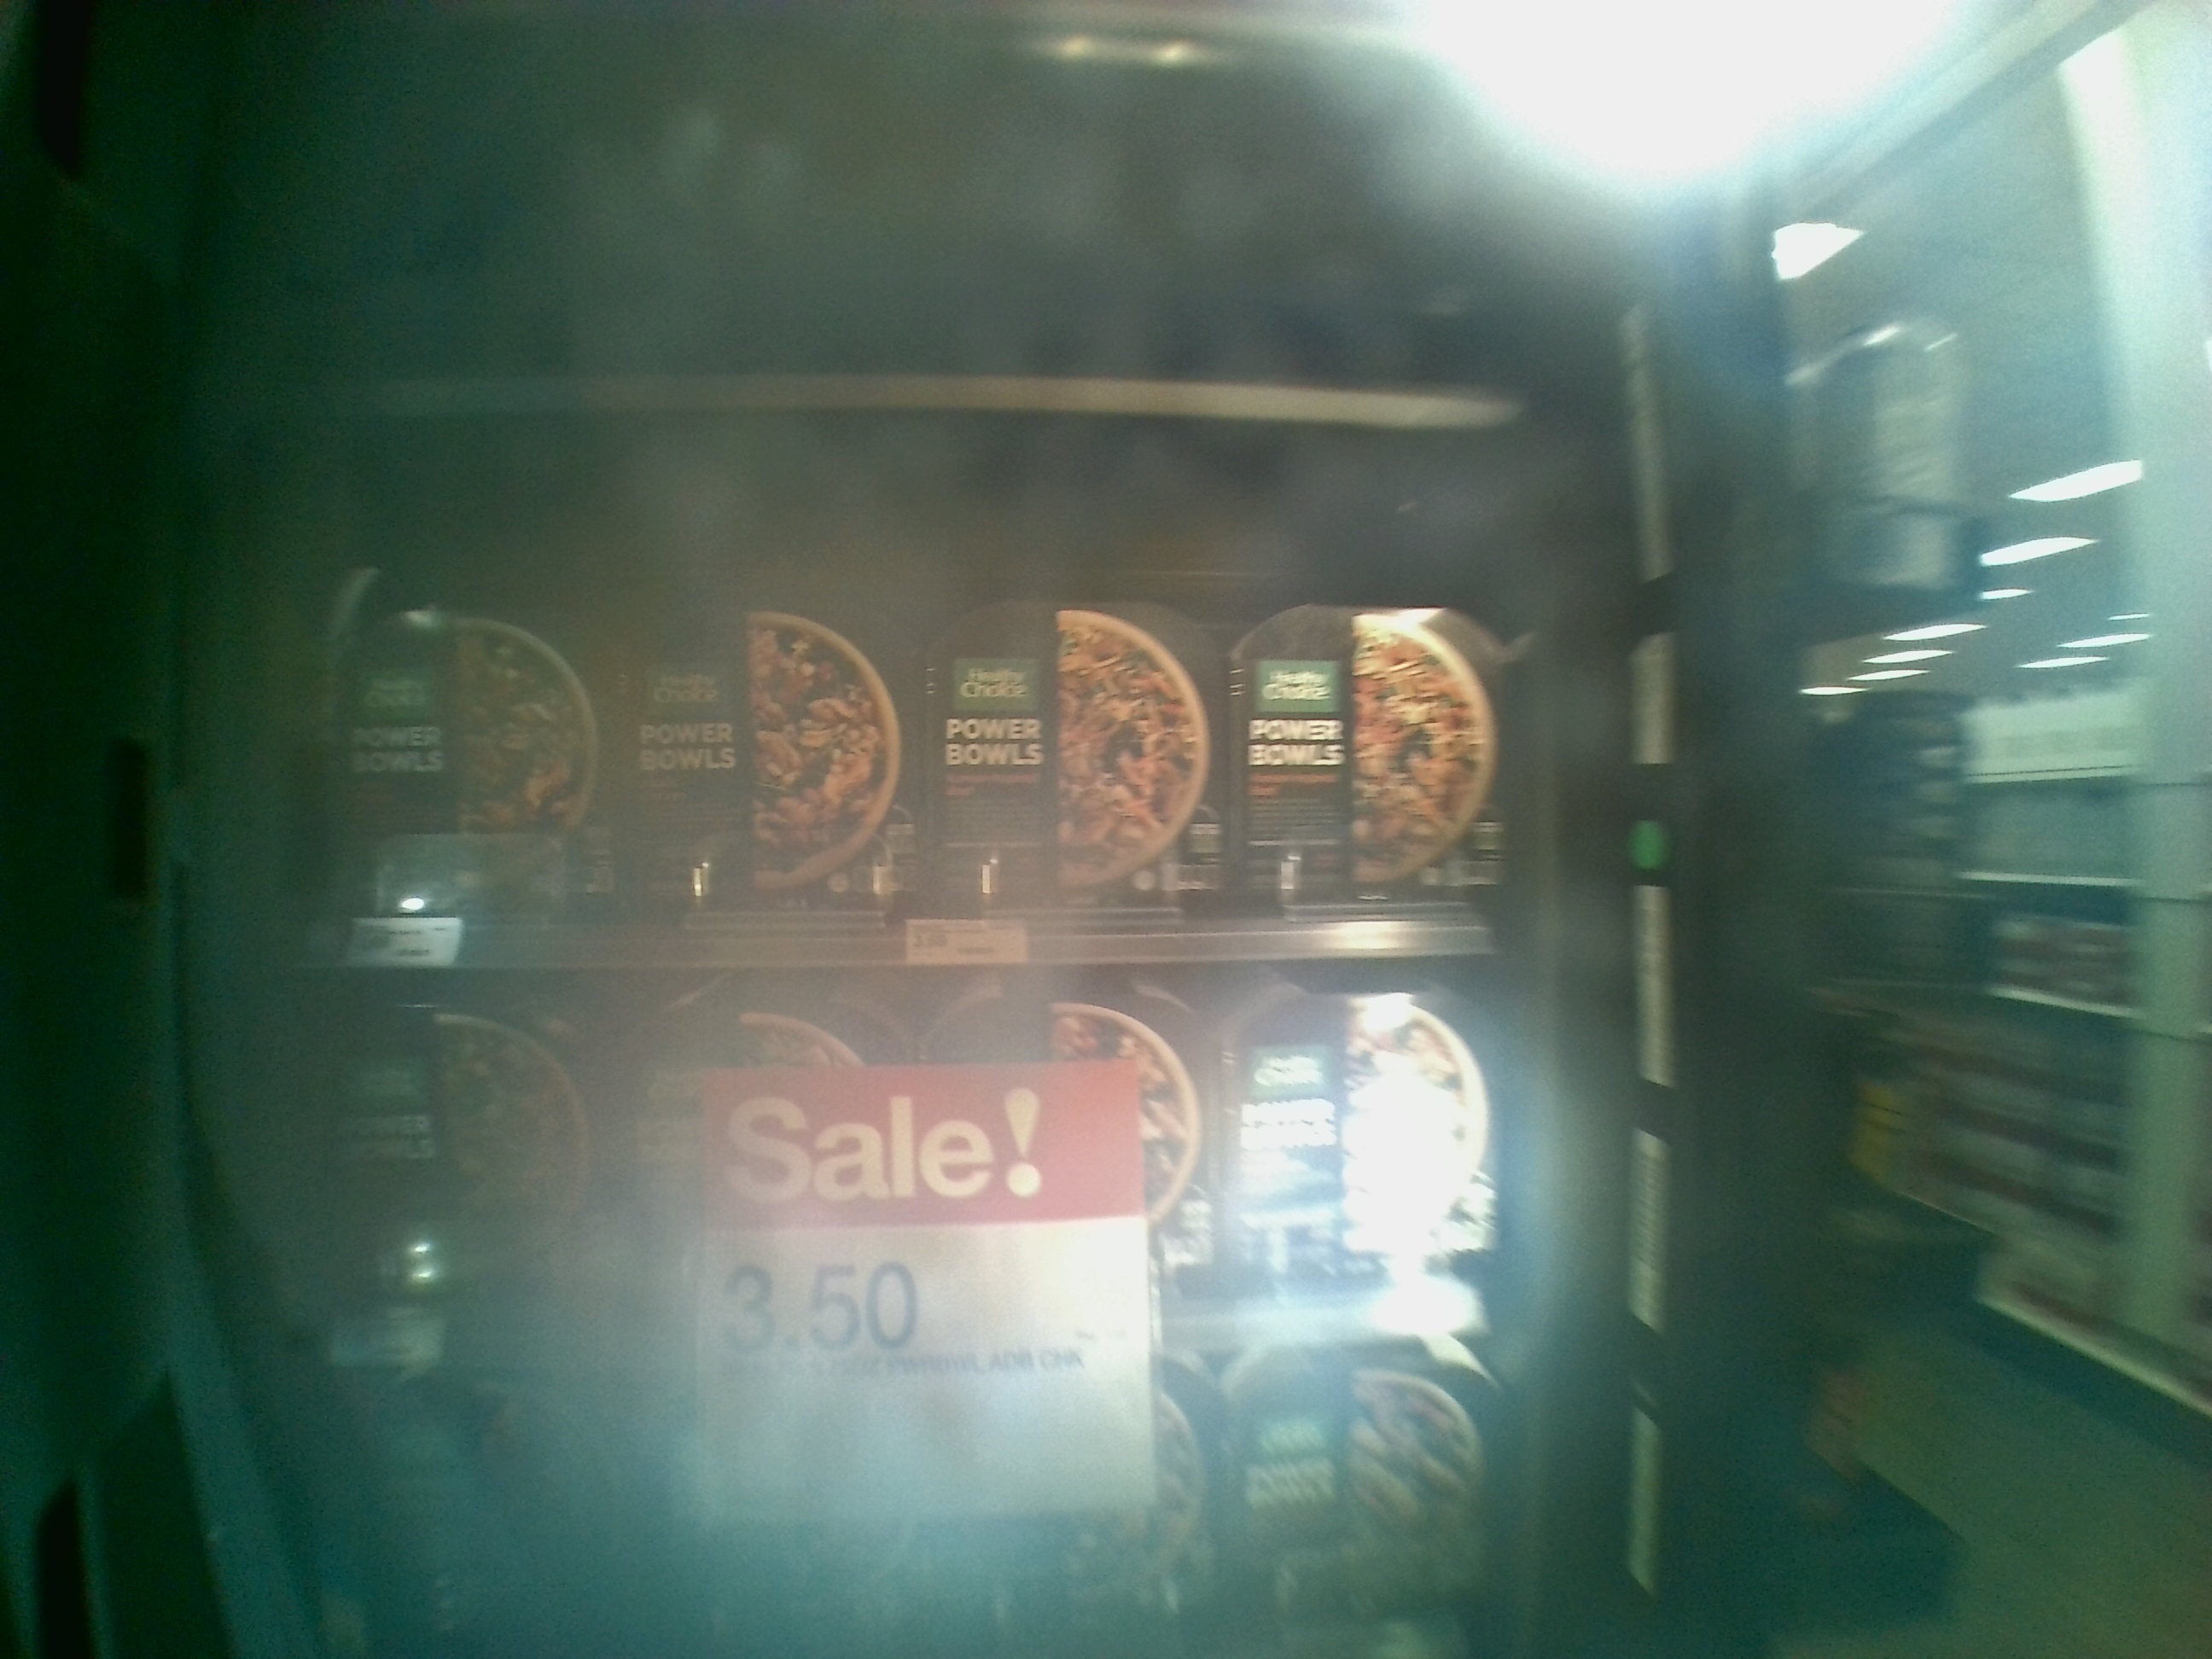shelf: (258, 375, 1512, 974), (270, 972, 1515, 1373)
